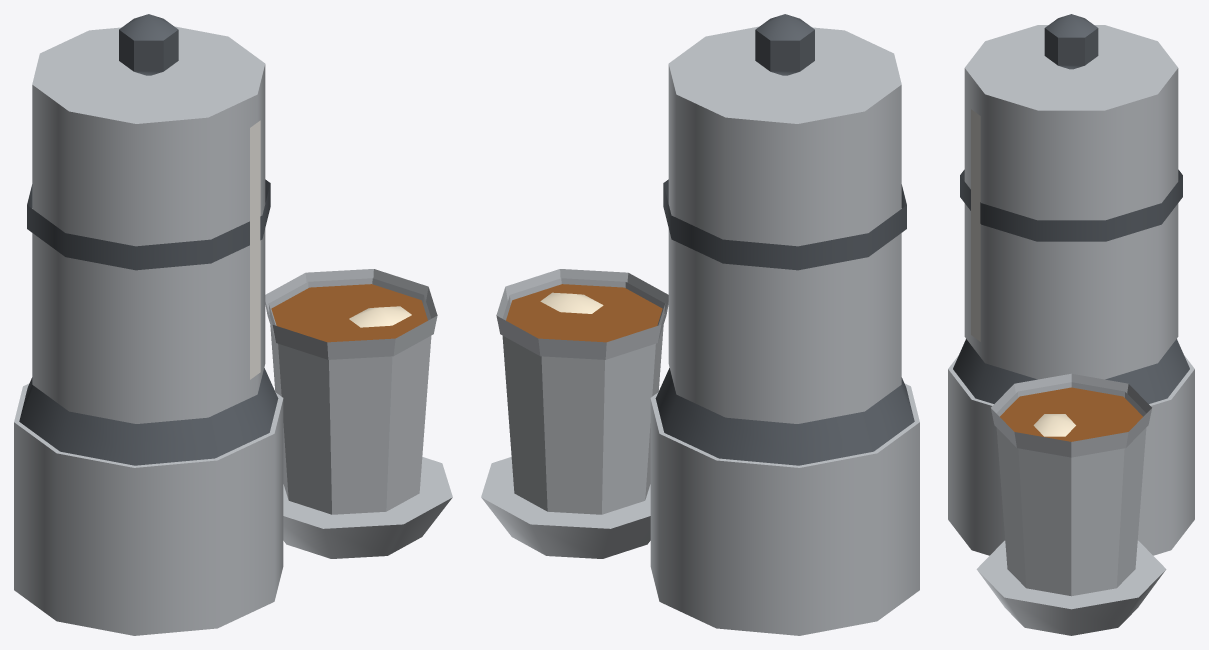
Rendered from prop_coffee_kettle.glb.
The picture shows the model from 3 angles, left to right: view 1: azimuth 30°, elevation 25°; view 2: azimuth 150°, elevation 25°; view 3: azimuth 270°, elevation 25°; orthographic projection. The views are drawn at different scales.
Parts seen in each view (by area): view 1: prop_coffee_kettle; view 2: prop_coffee_kettle; view 3: prop_coffee_kettle.
Boxes of the visible parts, <box> form: prop_coffee_kettle: <box>14,14,452,635</box>; prop_coffee_kettle: <box>481,14,919,635</box>; prop_coffee_kettle: <box>948,14,1194,635</box>.
Bounding box in the file's own units: 0.1775 × 0.235 × 0.104.
Materials: 1 (1 with a texture image).
